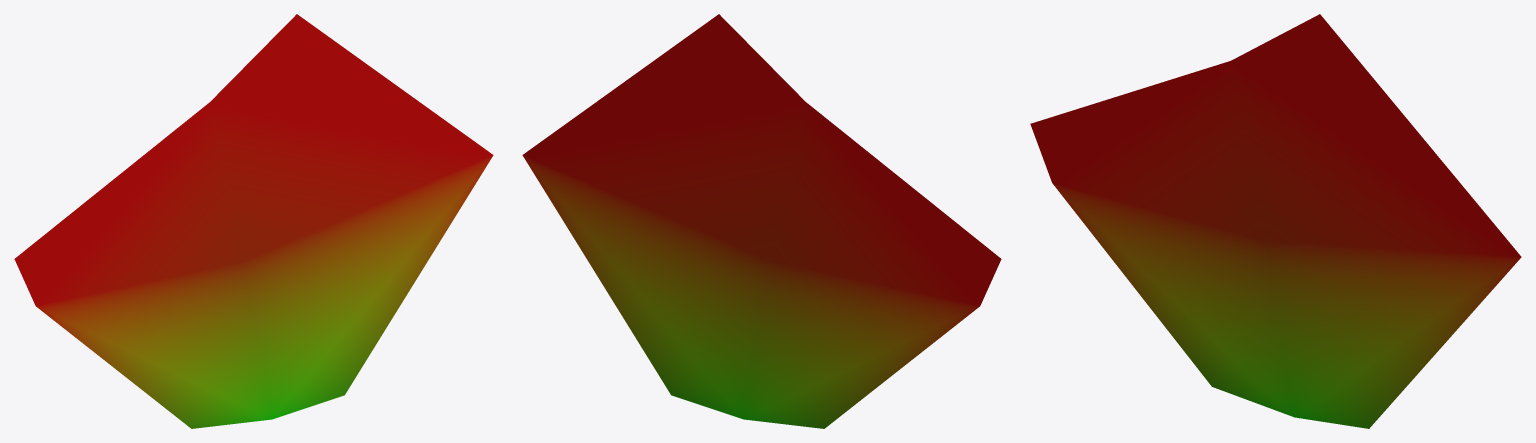
The model's file is Field Poppy_LOD4_Var8_vmcobd0ja.fbx.
The picture shows the model from 3 angles, left to right: view 1: azimuth 30°, elevation 25°; view 2: azimuth 150°, elevation 25°; view 3: azimuth 330°, elevation 25°; orthographic projection. The views are drawn at different scales.
Visible parts, largest first — view 1: _2glz_Var8_LOD4; view 2: _2glz_Var8_LOD4; view 3: _2glz_Var8_LOD4.
Boxes of the visible parts, x1=… form: _2glz_Var8_LOD4: x1=14, y1=14, x2=493, y2=428; _2glz_Var8_LOD4: x1=522, y1=14, x2=1001, y2=428; _2glz_Var8_LOD4: x1=1030, y1=14, x2=1521, y2=428.
Size of the model in its own units: 53.15 by 42.34 by 5.05e-06.
